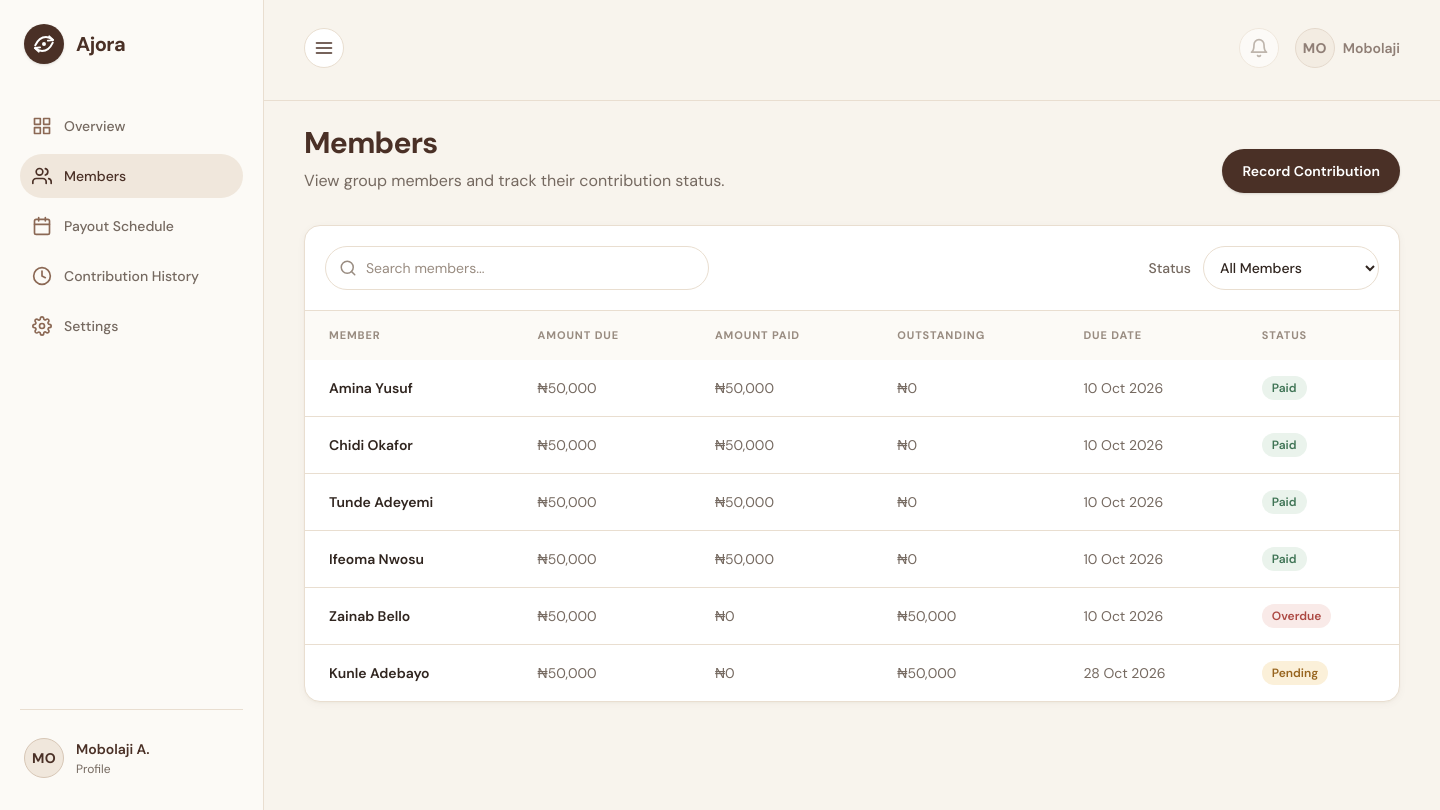
Test: MembersOverview › combines member search with status filtering and clears both filters
Type "Kunle" into the search field labelled "Search members" at coordinates (517, 268), box [325,246,709,290]
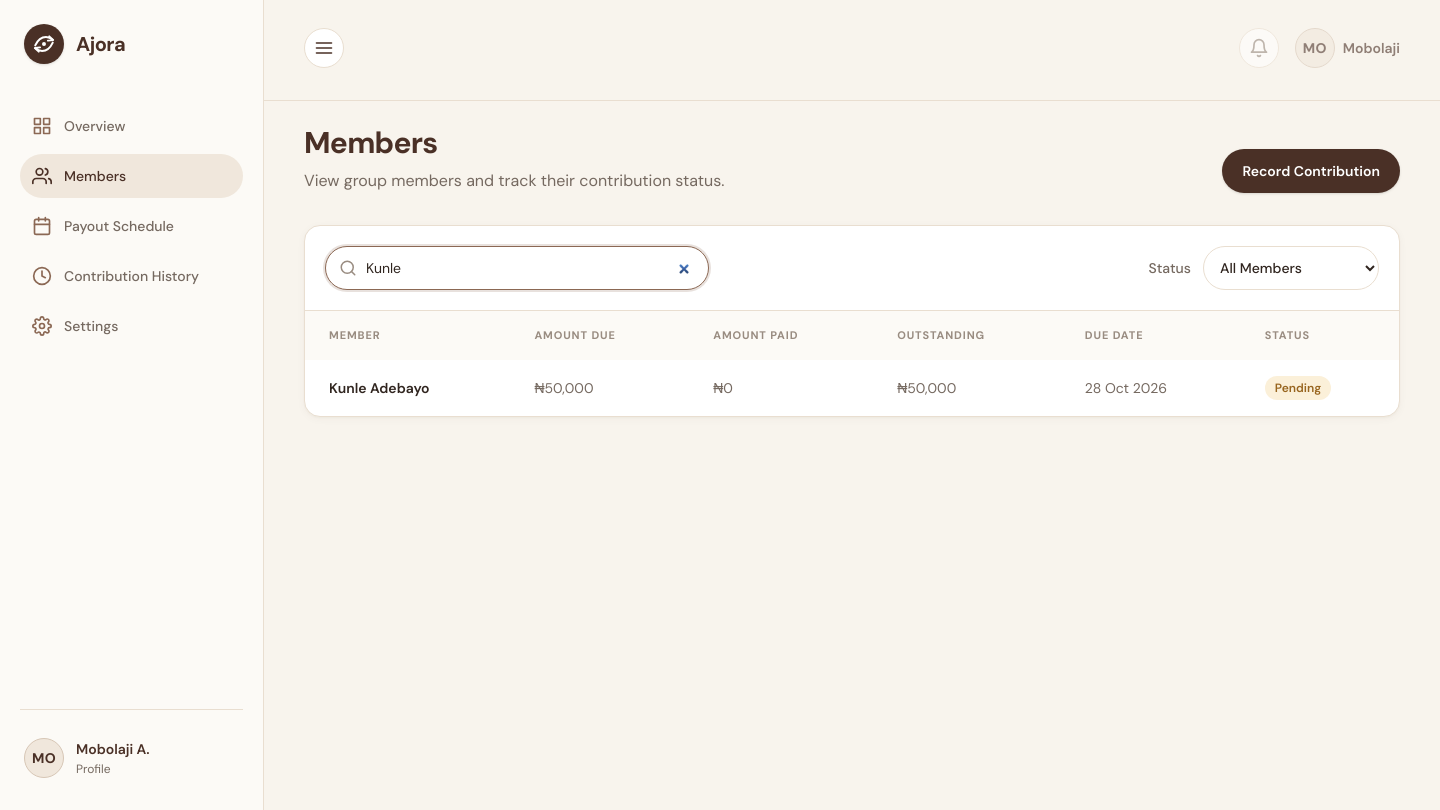
Check: the text "Kunle Adebayo" is shown, box [305,360,510,416]
Check: the text "Amina Yusuf" is gone
Select "Overdue" in the dropdown named "Filter members by status" at coordinates (1291, 268), box [1203,246,1379,290]
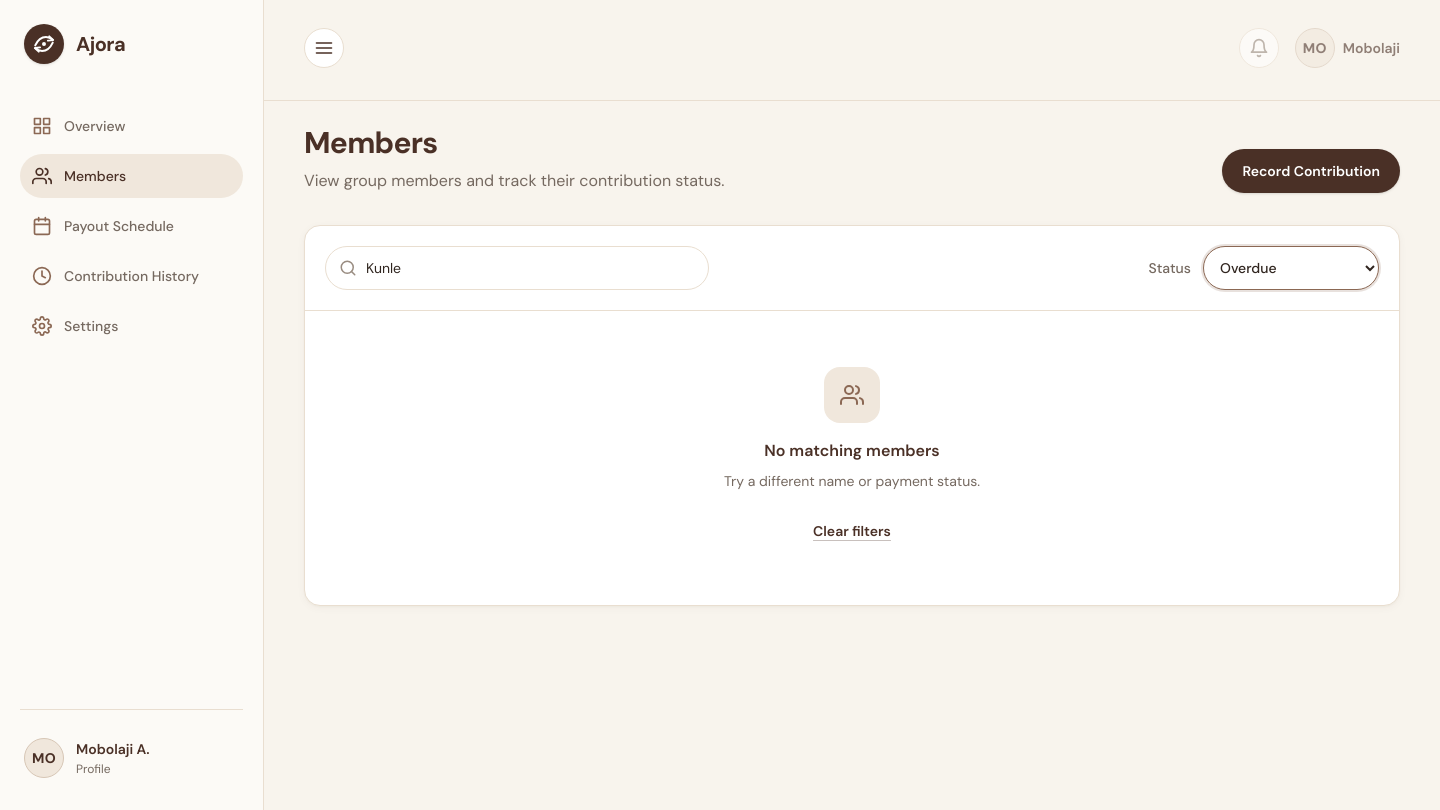
Check: the heading "No matching members" is shown, box [764,439,940,463]
Click the button "Clear filters" at coordinates (852, 531), box [801,513,903,549]
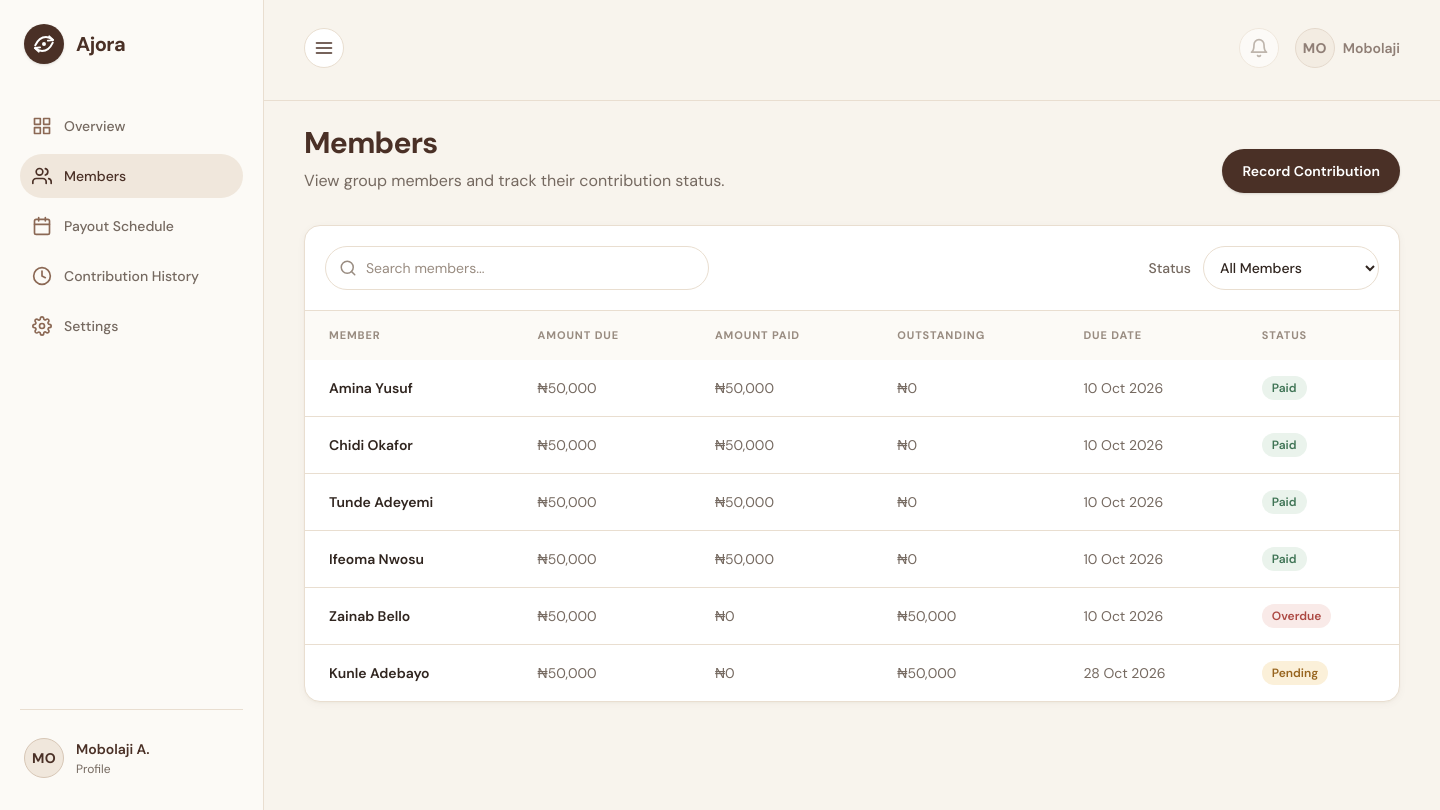
Check: the search field labelled "Search members" is empty, box [325,246,709,290]
Check: the text "Amina Yusuf" is shown, box [305,360,514,416]
